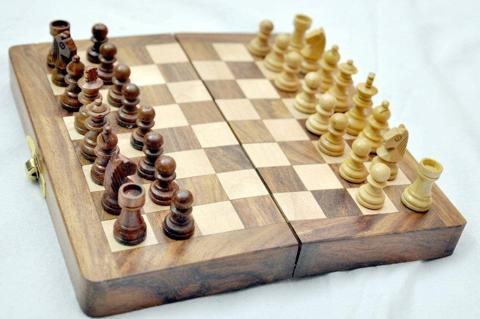xcorner: (141, 210, 150, 220), (183, 205, 192, 215), (224, 201, 234, 210), (117, 156, 127, 165), (157, 152, 167, 161), (183, 125, 193, 134), (289, 116, 298, 126), (307, 93, 316, 103), (261, 76, 270, 86), (292, 74, 301, 84), (183, 62, 193, 71), (278, 57, 288, 66), (264, 196, 273, 205), (302, 191, 311, 200), (339, 187, 348, 196), (375, 183, 384, 192), (129, 182, 138, 191), (170, 178, 179, 187), (210, 174, 219, 183), (248, 170, 257, 179), (285, 166, 294, 175), (321, 162, 330, 171), (356, 158, 365, 167), (196, 149, 205, 158), (234, 145, 243, 154), (270, 142, 279, 151), (305, 138, 314, 147), (339, 135, 348, 144), (107, 132, 116, 141), (146, 128, 155, 137), (220, 122, 229, 131), (255, 119, 264, 128), (322, 114, 331, 123), (97, 109, 106, 118), (135, 106, 144, 115), (172, 103, 181, 112), (207, 101, 216, 110), (241, 98, 250, 107), (274, 96, 283, 105), (88, 88, 97, 97), (125, 85, 134, 94), (160, 83, 169, 92), (195, 81, 204, 90), (228, 79, 237, 88), (80, 68, 89, 77), (115, 66, 124, 75), (150, 64, 159, 73), (216, 60, 225, 69), (248, 58, 257, 67)
